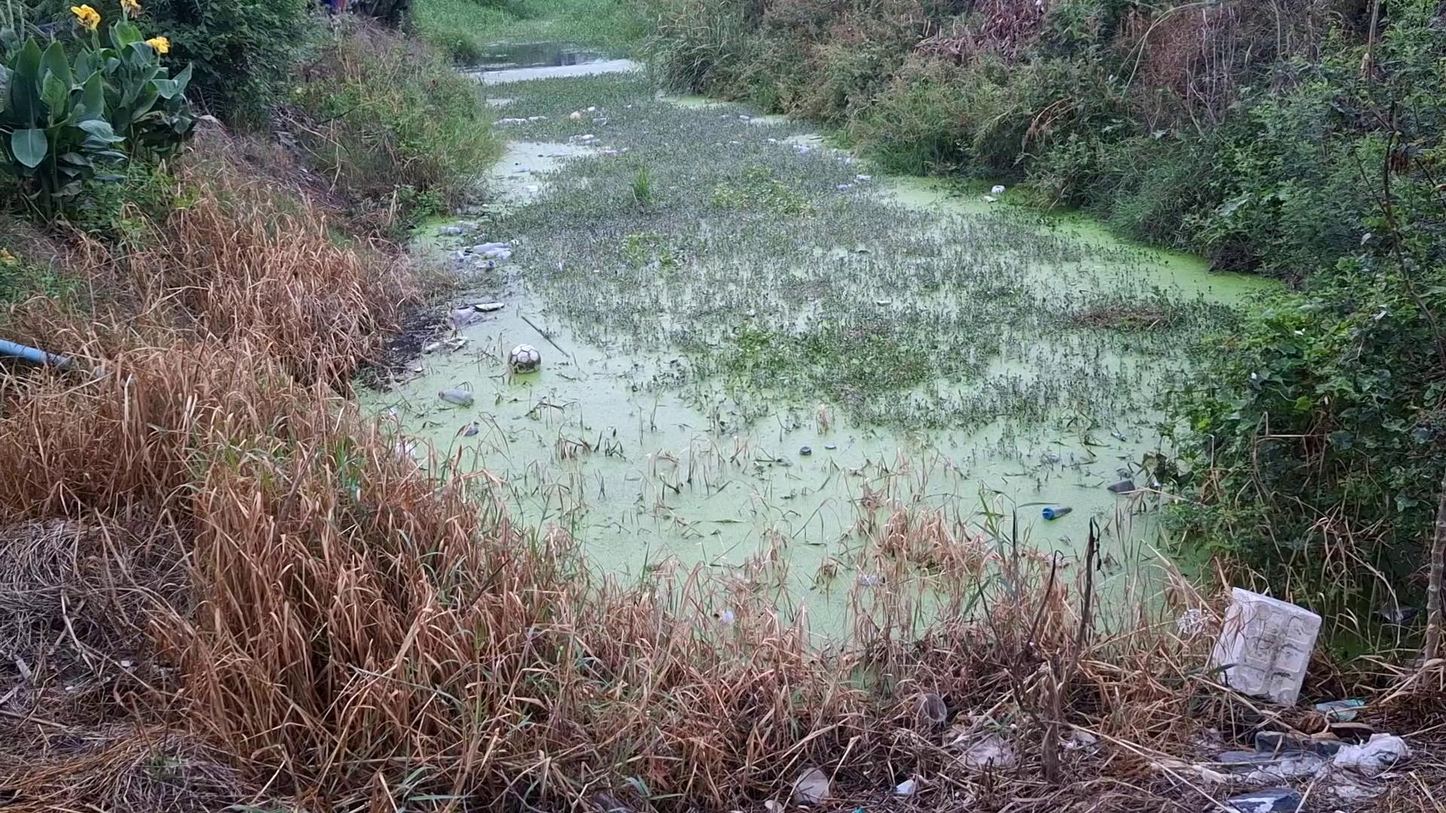ignore: (791, 239, 1231, 423), (578, 201, 947, 391), (489, 73, 885, 224)
trash: (445, 240, 529, 271), (431, 210, 487, 241), (966, 180, 1023, 209), (435, 381, 485, 412), (1021, 496, 1078, 523), (502, 343, 549, 375), (795, 440, 849, 460), (1100, 481, 1145, 505), (470, 295, 505, 312)
